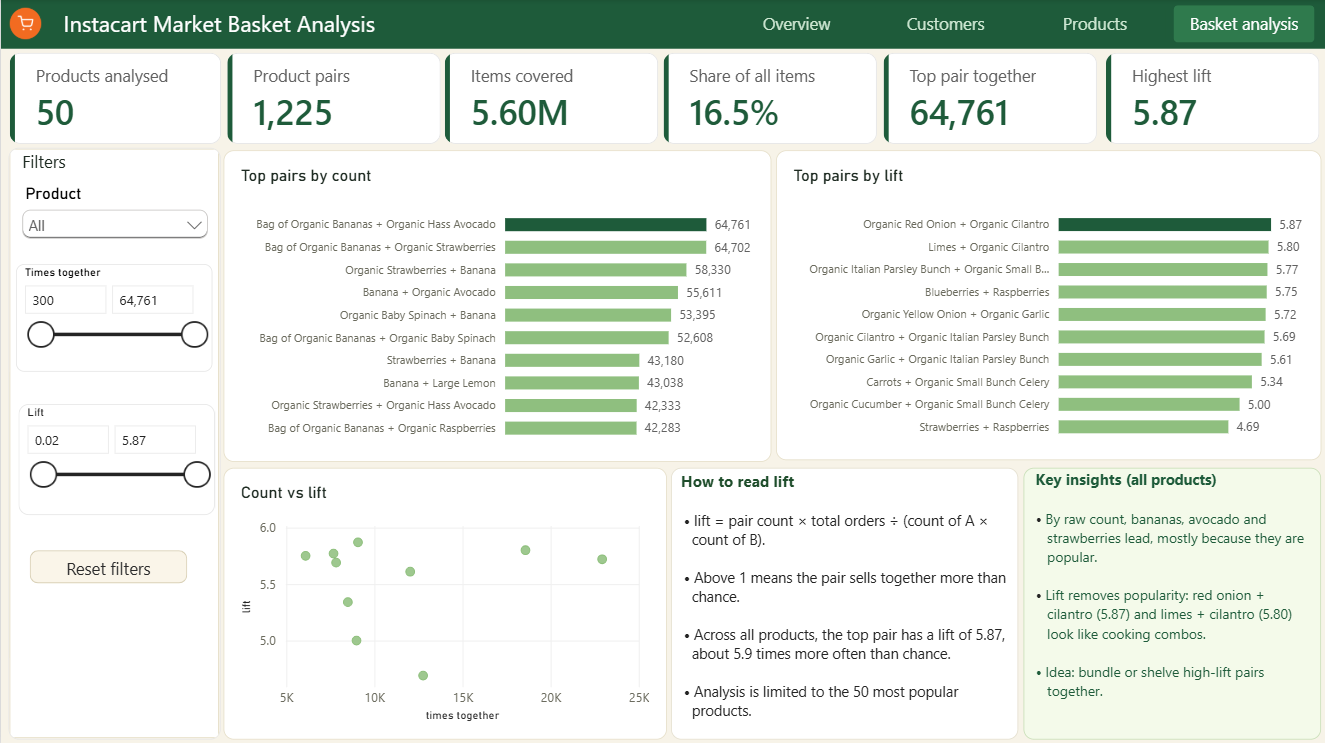

What the dashboard file says about the page in this screenshot:
{"tool":"powerbi","page":{"name":"Basket analysis","canvas":[1280,720],"ordinal":3},"visuals":[{"type":"shape","box":[0,0,1280,48],"z":0},{"type":"pageNavigator","box":[700,6,568,36],"z":1000},{"type":"textbox","box":[60,8,422.3,30],"z":2000},{"type":"cardVisual","fields":{"Data":["fact_pairs.Products Analysed"]},"box":[8.4,51.9,204,88.1],"z":3000},{"type":"cardVisual","fields":{"Data":["Count(pairs_both.pair)"]},"box":[218,52,206,88.1],"z":4000},{"type":"cardVisual","fields":{"Data":["fact_products.Items Covered"]},"box":[428,51.9,206,88.1],"z":5000},{"type":"cardVisual","fields":{"Data":["fact_products.Share of All Items"]},"box":[639,51.9,206,88.1],"z":6000},{"type":"cardVisual","fields":{"Data":["Max(pairs_both.together)"]},"box":[852,51.9,206.3,88.1],"z":7000},{"type":"cardVisual","fields":{"Data":["Max(pairs_both.lift)"]},"box":[1066,51.9,206,88.1],"z":8000},{"type":"shape","box":[6.9,144.1,204.5,571],"z":9000},{"type":"textbox","box":[20,146,120,24],"z":10000},{"type":"slicer","fields":{"Values":["pairs_both.focus"]},"box":[16.2,178.8,188.8,63.8],"z":11000},{"type":"slicer","fields":{"Values":["pairs_both.together"]},"box":[14.5,255.8,189.4,103.8],"z":12000},{"type":"slicer","fields":{"Values":["pairs_both.lift"]},"box":[16.5,391.1,189.4,107.4],"z":13000},{"type":"actionButton","box":[27.4,532.4,152,32],"z":14000},{"type":"clusteredBarChart","title":"Top pairs by count","fields":{"Category":["pairs_both.pair"],"Y":["select","Max(pairs_both.together)"]},"box":[215,145.5,529,300.5],"z":15000},{"type":"clusteredBarChart","title":"Top pairs by lift","fields":{"Category":["pairs_both.pair"],"Y":["Max(pairs_both.lift)"]},"box":[747.9,145.5,526,299.1],"z":16000},{"type":"scatterChart","title":"Count vs lift","fields":{"Category":["pairs_both.pair"],"X":["Max(pairs_both.together)"],"Y":["Max(pairs_both.lift)"]},"box":[215,452,428,262],"z":17000},{"type":"textbox","box":[986.6,452,287,262],"z":18000},{"type":"textbox","box":[647,452,335.4,262],"z":19000},{"type":"image","box":[8.4,9,30,30],"z":20000}]}

Visuals, with their boxes in screenshot pixels (x1, y1, x2, y2), scaled from the page's 1280x720 canvas onto the 1325x743 screenshot:
shape: (0,0,1324,50)
pageNavigator: (725,6,1313,43)
textbox: (62,8,499,39)
cardVisual - fact_pairs.Products Analysed: (9,54,220,144)
cardVisual - Count(pairs_both.pair): (226,54,439,145)
cardVisual - fact_products.Items Covered: (443,54,656,144)
cardVisual - fact_products.Share of All Items: (661,54,875,144)
cardVisual - Max(pairs_both.together): (882,54,1096,144)
cardVisual - Max(pairs_both.lift): (1103,54,1317,144)
shape: (7,149,219,738)
textbox: (21,151,145,175)
slicer - pairs_both.focus: (17,185,212,250)
slicer - pairs_both.together: (15,264,211,371)
slicer - pairs_both.lift: (17,404,213,514)
actionButton: (28,549,186,582)
"Top pairs by count" clusteredBarChart: (223,150,770,460)
"Top pairs by lift" clusteredBarChart: (774,150,1319,459)
"Count vs lift" scatterChart: (223,466,666,737)
textbox: (1021,466,1318,737)
textbox: (670,466,1017,737)
image: (9,9,40,40)
